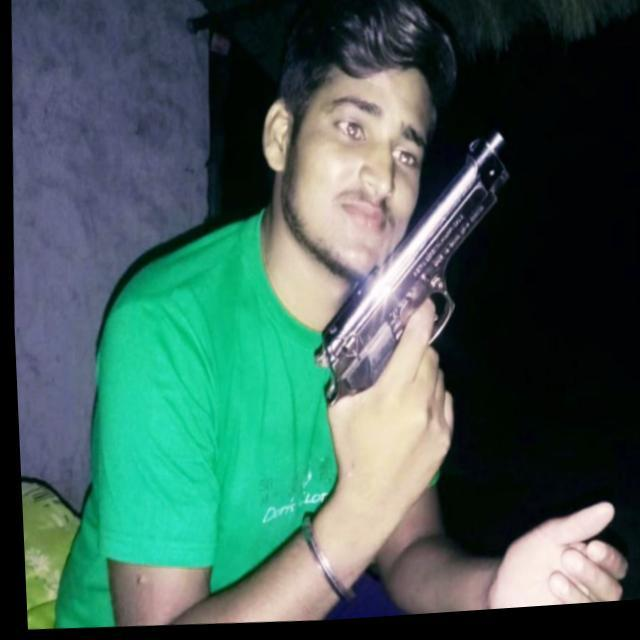weapon: (294, 122, 525, 492)
